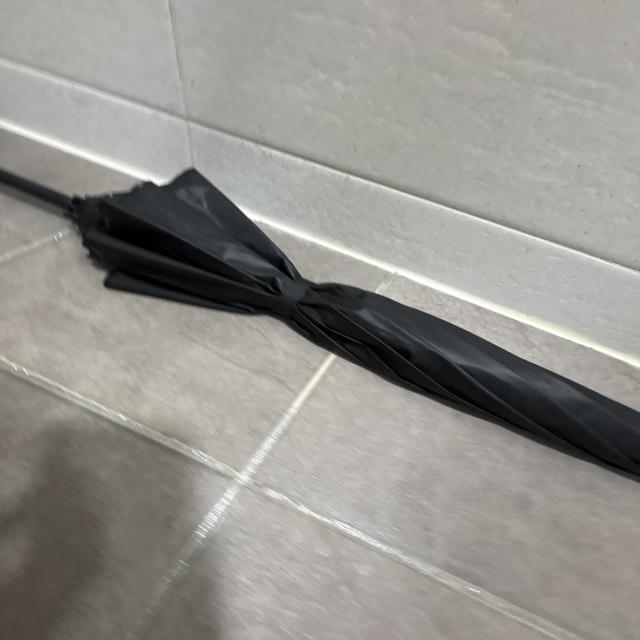umbrella: (0, 163, 640, 480)
